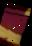scratch: (0, 4, 31, 45)
